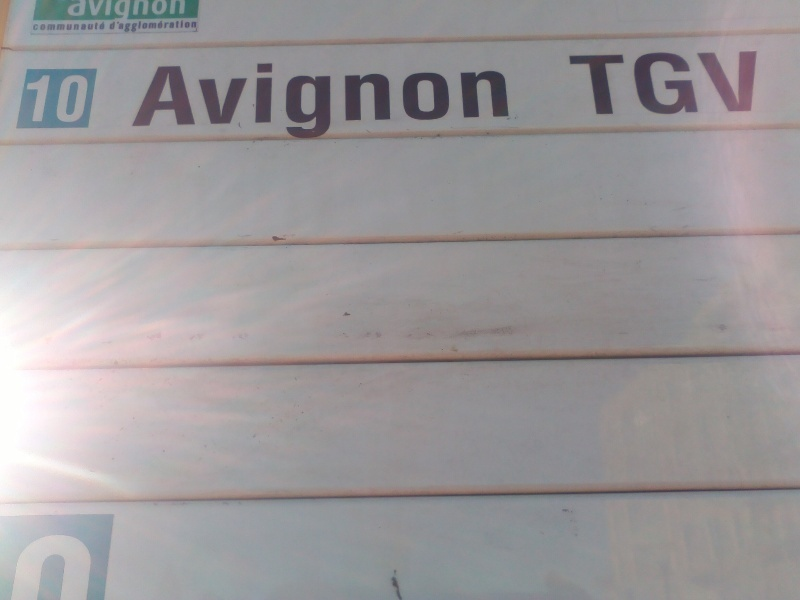text: (161, 58, 176, 140), (177, 58, 192, 140), (193, 58, 208, 140), (209, 58, 224, 140), (225, 58, 240, 140), (241, 58, 256, 140), (257, 58, 272, 140), (273, 58, 288, 140), (289, 58, 304, 140), (305, 58, 320, 140), (321, 58, 336, 140), (337, 58, 352, 140), (353, 58, 368, 140), (369, 58, 384, 140), (385, 58, 400, 140), (401, 58, 416, 140), (417, 58, 432, 140), (433, 58, 448, 140), (449, 58, 464, 140), (465, 58, 480, 140), (481, 58, 496, 140), (497, 58, 512, 140), (17, 531, 32, 600), (33, 531, 48, 600), (49, 531, 64, 600), (65, 531, 80, 600), (577, 49, 592, 117), (593, 49, 608, 117), (609, 49, 624, 117), (625, 49, 640, 117), (641, 49, 656, 117), (657, 49, 672, 117), (673, 49, 688, 117), (689, 49, 704, 117), (705, 49, 720, 117), (721, 49, 736, 117), (737, 49, 752, 117), (81, 531, 95, 600), (753, 49, 766, 117), (33, 73, 48, 123), (49, 73, 64, 123), (65, 73, 80, 123), (568, 49, 576, 117), (81, 73, 90, 123), (81, 1, 96, 21), (97, 1, 112, 21), (113, 1, 128, 21), (129, 1, 144, 21), (145, 1, 160, 21), (161, 1, 176, 21), (157, 58, 160, 140), (69, 1, 80, 21), (177, 1, 188, 21), (113, 19, 128, 33), (129, 19, 144, 33), (145, 19, 160, 33), (161, 19, 176, 33), (177, 19, 192, 33), (28, 73, 32, 123), (33, 22, 48, 32), (49, 22, 64, 32), (65, 22, 80, 32), (81, 22, 96, 32), (97, 22, 106, 32), (513, 58, 514, 140), (193, 19, 197, 33), (109, 19, 112, 33)
